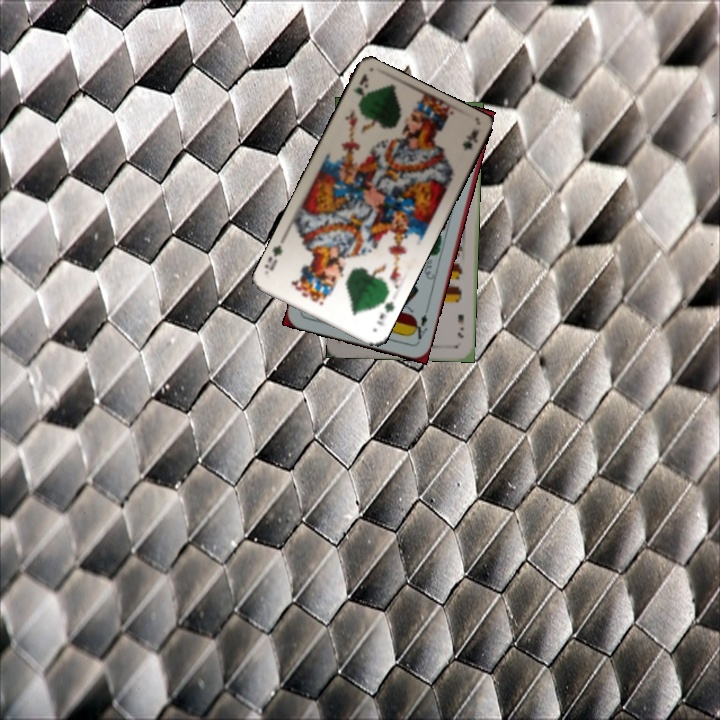E7: (454, 311, 467, 340)
EA: (409, 305, 431, 345)
GK: (349, 70, 371, 112), (373, 297, 397, 328)
